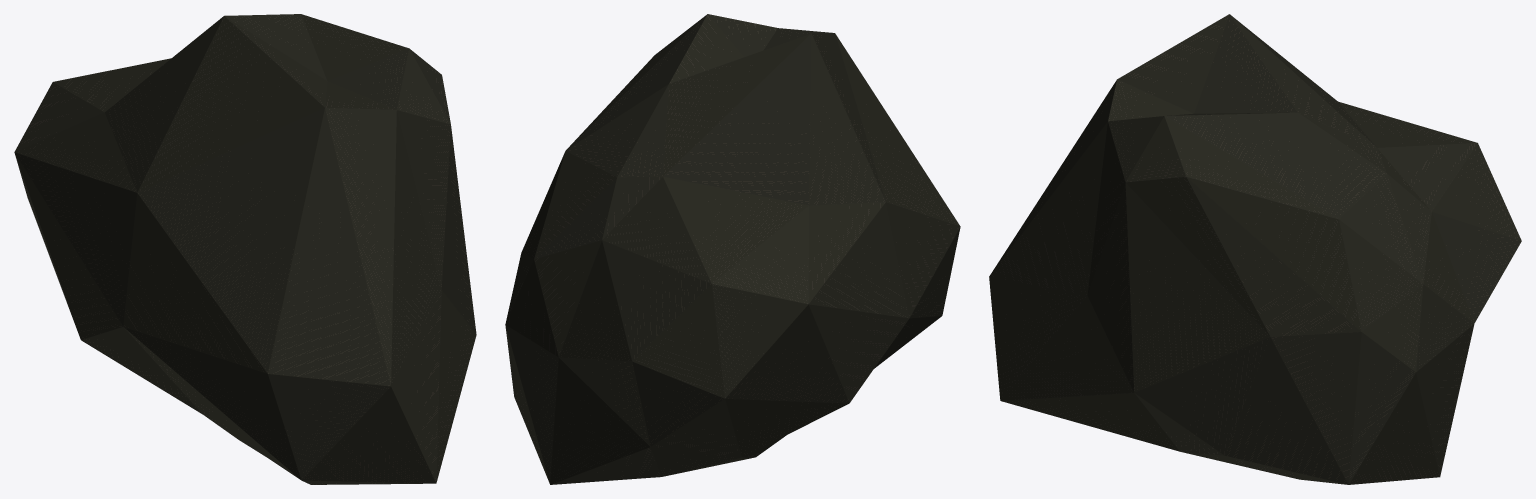
The model's file is rock.glb.
The picture shows the model from 3 angles, left to right: view 1: azimuth 30°, elevation 25°; view 2: azimuth 150°, elevation 25°; view 3: azimuth 270°, elevation 25°; orthographic projection. The views are drawn at different scales.
Visible parts, largest first — view 1: Icosphere; view 2: Icosphere; view 3: Icosphere.
Boxes of the visible parts, bbox=[...] form: Icosphere: bbox=[14, 14, 476, 484]; Icosphere: bbox=[505, 14, 960, 484]; Icosphere: bbox=[989, 14, 1521, 484].
Size of the model in its own units: 1.82 by 2.19 by 2.64.
1 material, 1 textured.
